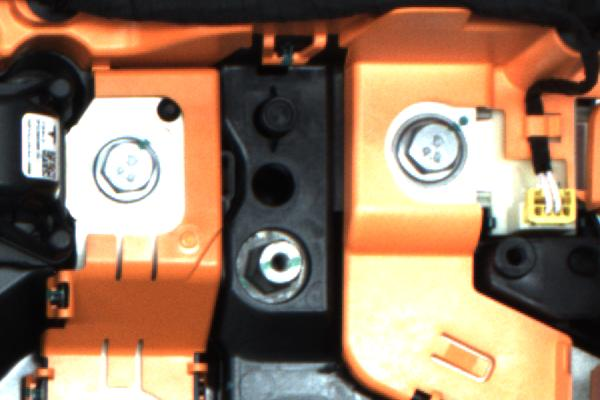nut_b: (385, 110, 478, 192), (83, 129, 174, 208)
